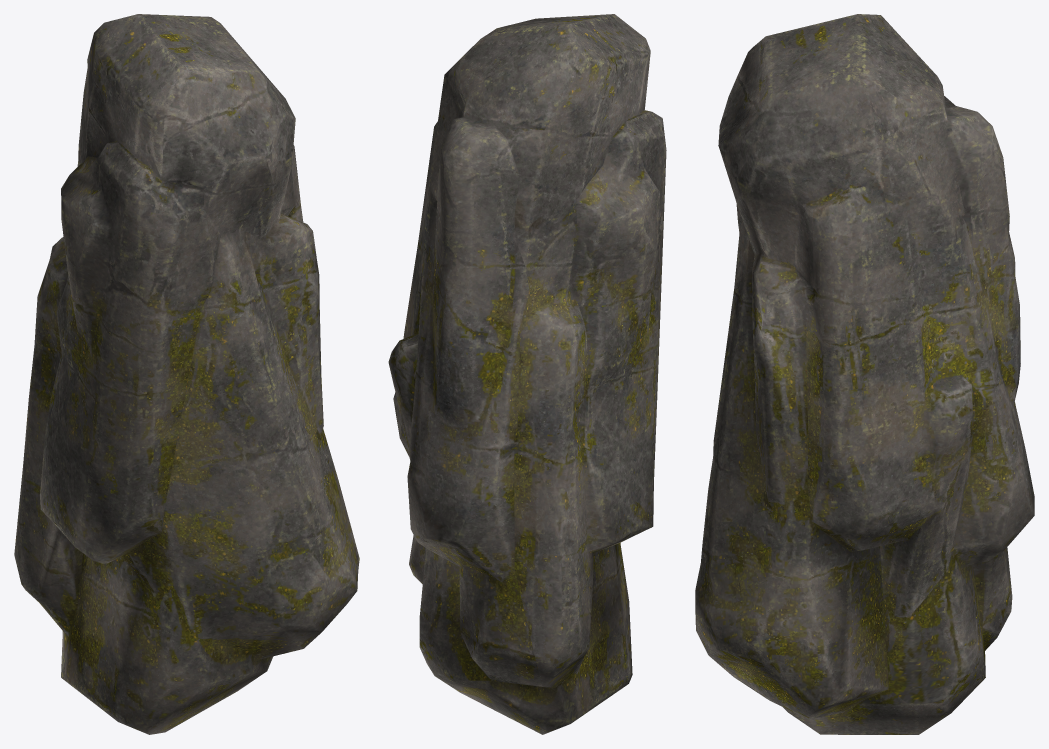
The model's file is SM_Rock_cliff_01.FBX.
3 views of the same model, side by side, from view 1: azimuth 30°, elevation 25°; view 2: azimuth 150°, elevation 25°; view 3: azimuth 270°, elevation 25° (orthographic). The views are drawn at different scales.
Parts seen in each view (by area): view 1: SM_Rock_cliff_01; view 2: SM_Rock_cliff_01; view 3: SM_Rock_cliff_01.
Part boxes in pixels (x1,y1,x2,y2): SM_Rock_cliff_01: (14,14,359,734); SM_Rock_cliff_01: (388,14,666,734); SM_Rock_cliff_01: (695,14,1034,734).
Bounding box in the file's own units: 325 × 872 × 381.
